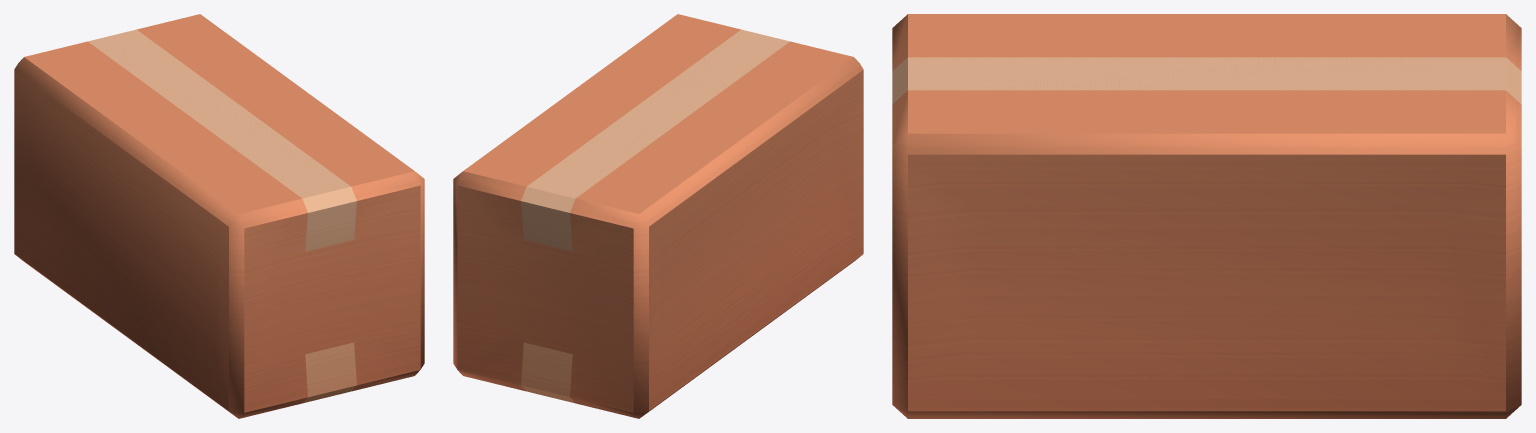
File: box-large.glb
The picture shows the model from 3 angles, left to right: view 1: azimuth 30°, elevation 25°; view 2: azimuth 150°, elevation 25°; view 3: azimuth 270°, elevation 25°; orthographic projection. The views are drawn at different scales.
Visible parts, largest first — view 1: box-large; view 2: box-large; view 3: box-large.
Part boxes in pixels (x1=…): box-large: x1=14, y1=14, x2=424, y2=418; box-large: x1=453, y1=14, x2=863, y2=418; box-large: x1=892, y1=14, x2=1521, y2=418.
Bounding box in the file's own units: 0.25 × 0.25 × 0.5.
1 material, 1 textured.
